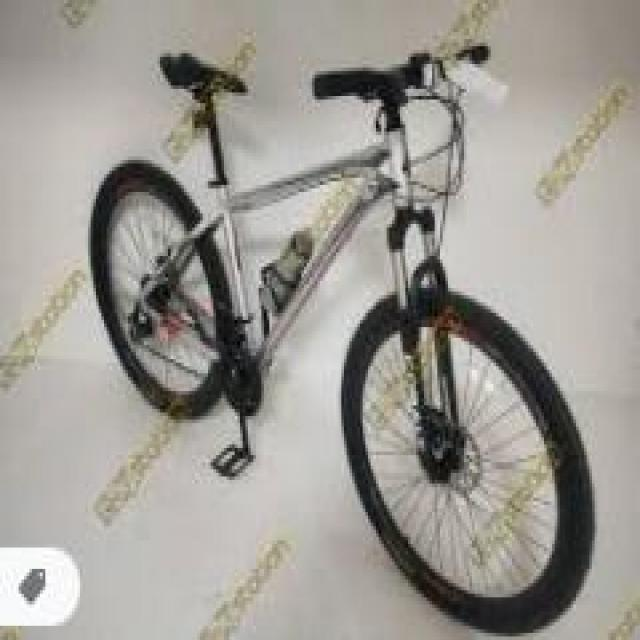bicycle: (65, 22, 615, 616)
